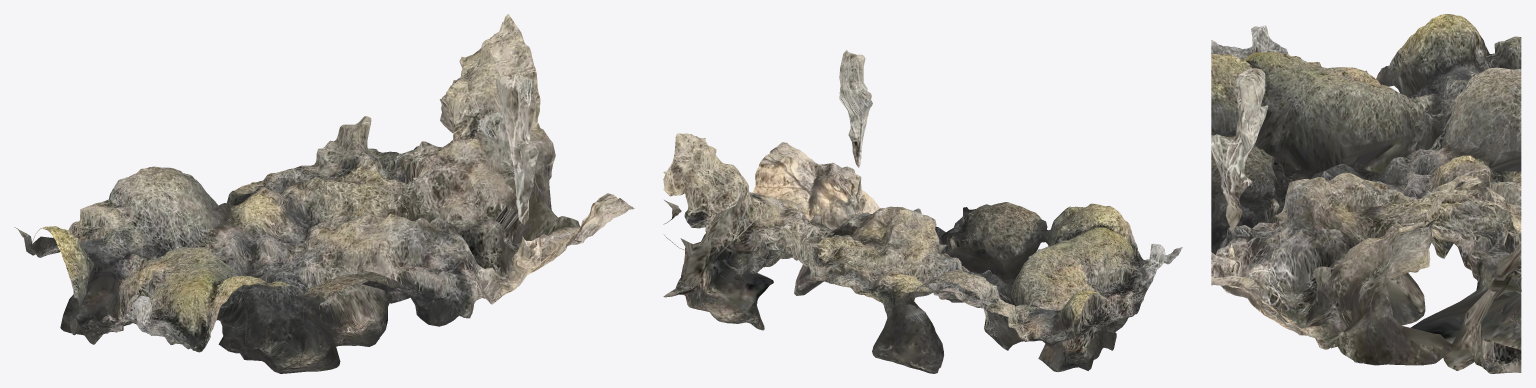
File: Block_L20_155.glb
The picture shows the model from 3 angles, left to right: view 1: azimuth 30°, elevation 25°; view 2: azimuth 150°, elevation 25°; view 3: azimuth 270°, elevation 25°; orthographic projection. The views are drawn at different scales.
Visible parts, largest first — view 1: rtc; view 2: rtc; view 3: rtc.
Boxes of the visible parts, left/top/right/bottom form: rtc: left=14, top=14, right=634, bottom=373; rtc: left=663, top=50, right=1182, bottom=373; rtc: left=1211, top=14, right=1521, bottom=373.
Bounding box in the file's own units: 28.54 × 14.59 × 14.72.
Materials: 7 (7 with a texture image).
